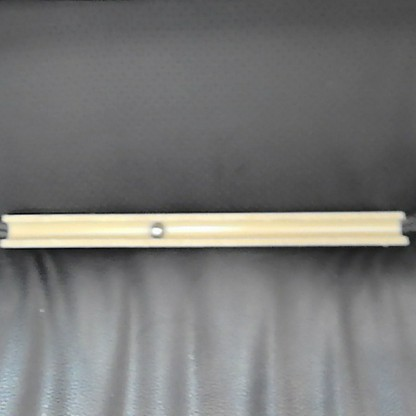ironball: (147, 219, 165, 239)
